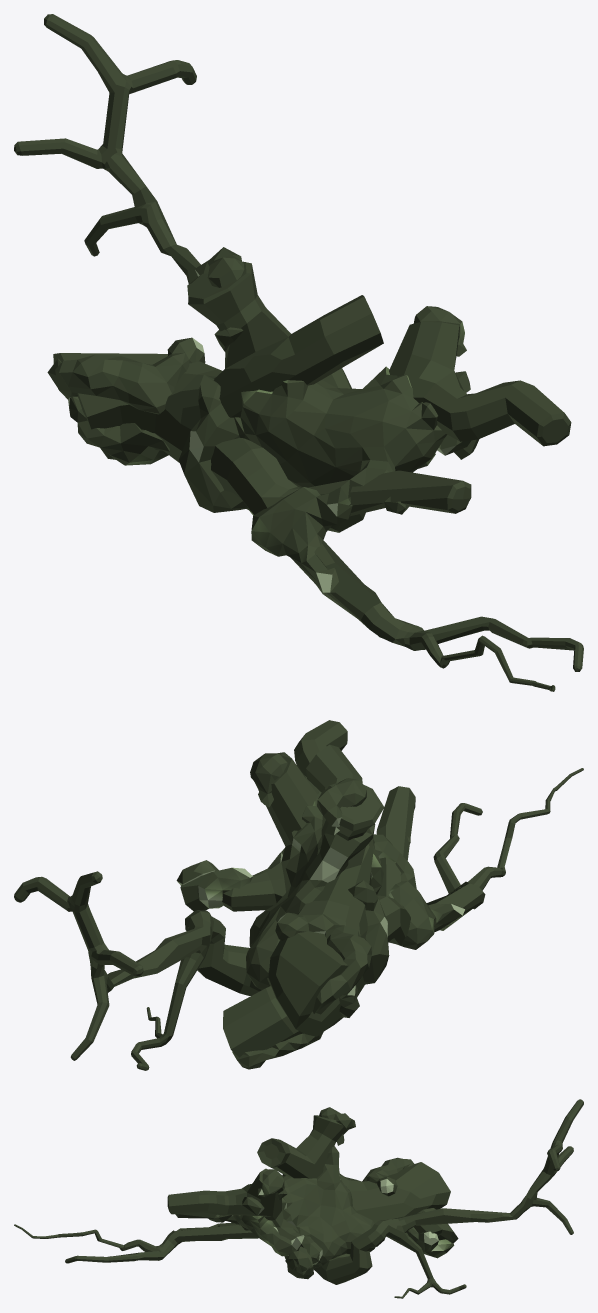
Rendered from EA_Swamp_Root_Moss_01a.glb.
The picture shows the model from 3 angles, top to bottom: view 1: azimuth 30°, elevation 25°; view 2: azimuth 150°, elevation 25°; view 3: azimuth 270°, elevation 25°; orthographic projection. The views are drawn at different scales.
Visible parts, largest first — view 1: EA_Swamp_Root_Moss_01a; view 2: EA_Swamp_Root_Moss_01a; view 3: EA_Swamp_Root_Moss_01a.
Part boxes in pixels (x1,y1,x2,y2): EA_Swamp_Root_Moss_01a: (14,14,583,691); EA_Swamp_Root_Moss_01a: (14,720,583,1070); EA_Swamp_Root_Moss_01a: (14,1099,583,1298).
Size of the model in its own units: 3.85 by 3.83 by 11.23.
1 material, 1 textured.
